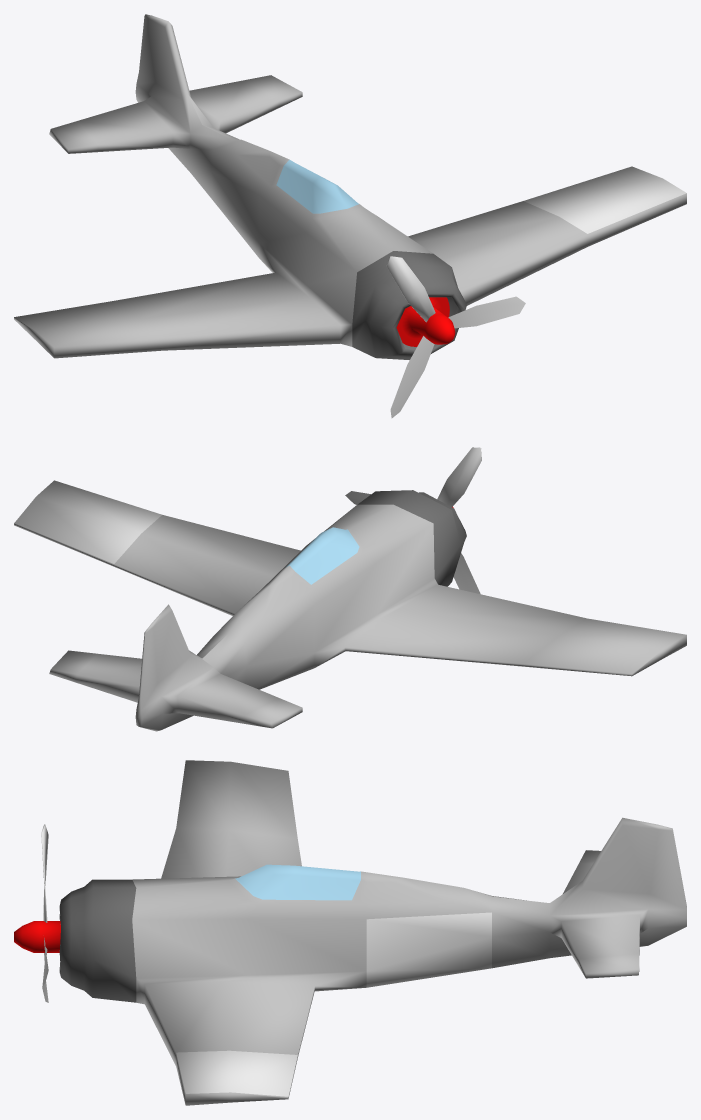
3 views of the same model, one above another, from view 1: azimuth 30°, elevation 25°; view 2: azimuth 150°, elevation 25°; view 3: azimuth 270°, elevation 25° (orthographic). The views are drawn at different scales.
Visible parts, largest first — view 1: Cube, Plane, Circle; view 2: Cube, Plane; view 3: Cube, Circle, Plane.
Boxes of the visible parts, x1=… form: Cube: x1=14, y1=14, x2=686, y2=359; Plane: x1=386, y1=256, x2=525, y2=418; Circle: x1=396, y1=297, x2=455, y2=346; Cube: x1=14, y1=480, x2=686, y2=731; Plane: x1=345, y1=447, x2=481, y2=594; Cube: x1=59, y1=760, x2=686, y2=1105; Circle: x1=14, y1=921, x2=60, y2=952; Plane: x1=41, y1=824, x2=48, y2=1002.
Size of the model in its own units: 4.37 by 3.73 by 1.26.
